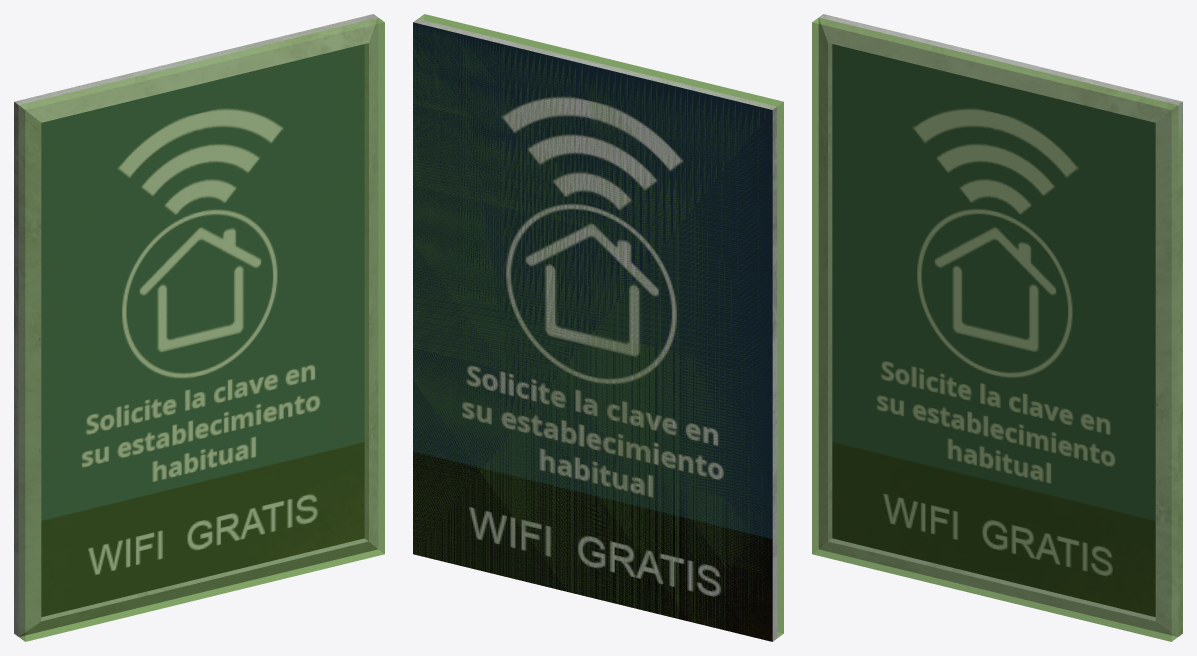
File: p_GeneralSignage_01_b.fbx
3 views of the same model, side by side, from view 1: azimuth 30°, elevation 25°; view 2: azimuth 150°, elevation 25°; view 3: azimuth 330°, elevation 25° (orthographic).
Parts seen in each view (by area): view 1: p_GeneralSignage_01_b_col, p_GeneralSignage_01_b_LOD0; view 2: p_GeneralSignage_01_b_LOD0, p_GeneralSignage_01_b_col; view 3: p_GeneralSignage_01_b_col, p_GeneralSignage_01_b_LOD0.
Part boxes in pixels (box(x1,y1,x2,y2)): p_GeneralSignage_01_b_col: box(14, 15, 384, 641); p_GeneralSignage_01_b_LOD0: box(14, 14, 378, 636); p_GeneralSignage_01_b_LOD0: box(413, 19, 777, 641); p_GeneralSignage_01_b_col: box(413, 14, 783, 637); p_GeneralSignage_01_b_col: box(812, 14, 1182, 641); p_GeneralSignage_01_b_LOD0: box(818, 14, 1182, 636).
Size of what is drawn, in the model's own units: 29.7 by 42 by 1.62.
